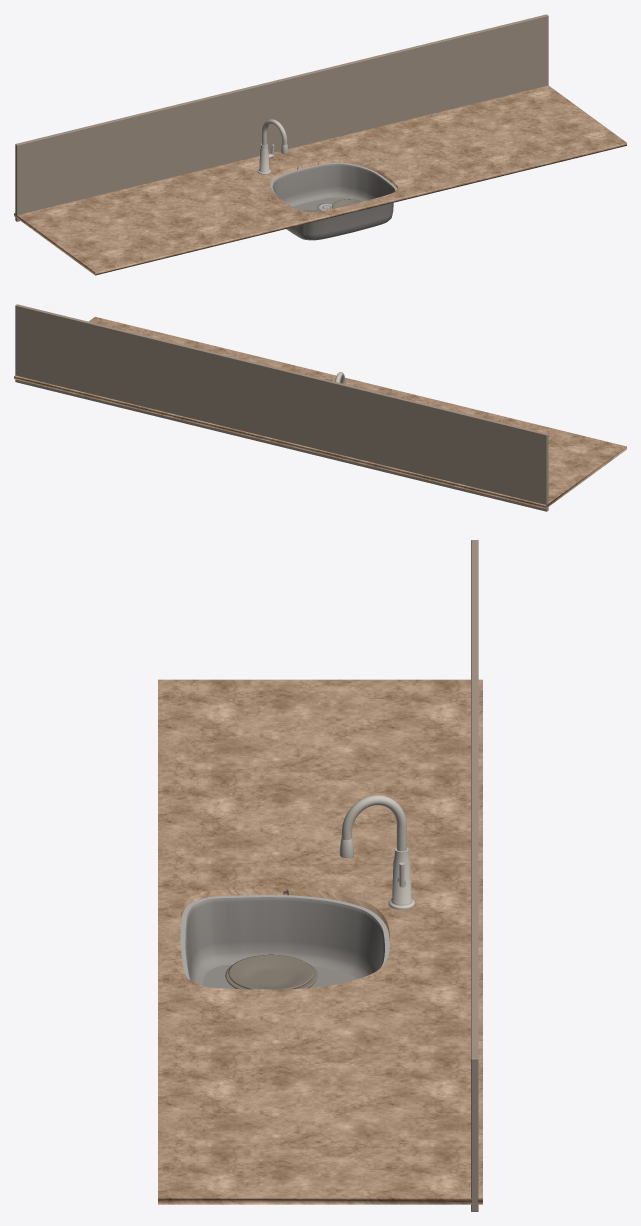
The model's file is sink-setting.glb.
3 renders of one model, top to bottom at view 1: azimuth 30°, elevation 25°; view 2: azimuth 150°, elevation 25°; view 3: azimuth 270°, elevation 25°, orthographic. The views are drawn at different scales.
Parts seen in each view (by area): view 1: Marble countertop, Backsplash, Pressed basin; view 2: Backsplash, Marble countertop; view 3: Marble countertop, Pressed basin, Backsplash, Stoneware under cover.001, Curved faucet neck, Stainless support shelf.
Part boxes in pixels (x1,y1,x2,y2): Marble countertop: [14, 85, 626, 275]; Backsplash: [15, 14, 548, 221]; Pressed basin: [272, 163, 395, 240]; Backsplash: [15, 304, 548, 511]; Marble countertop: [14, 316, 626, 508]; Marble countertop: [158, 679, 482, 1204]; Pressed basin: [185, 897, 384, 988]; Backsplash: [471, 540, 478, 1211]; Stoneware under cover.001: [228, 954, 313, 989]; Curved faucet neck: [341, 795, 406, 851]; Stainless support shelf: [180, 895, 389, 980].
Bounding box in the file's own units: 2.9 × 0.537 × 0.767.
Materials: 7 (1 with a texture image).
